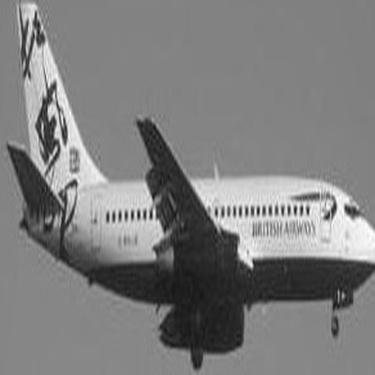airplane: (6, 2, 370, 372)
